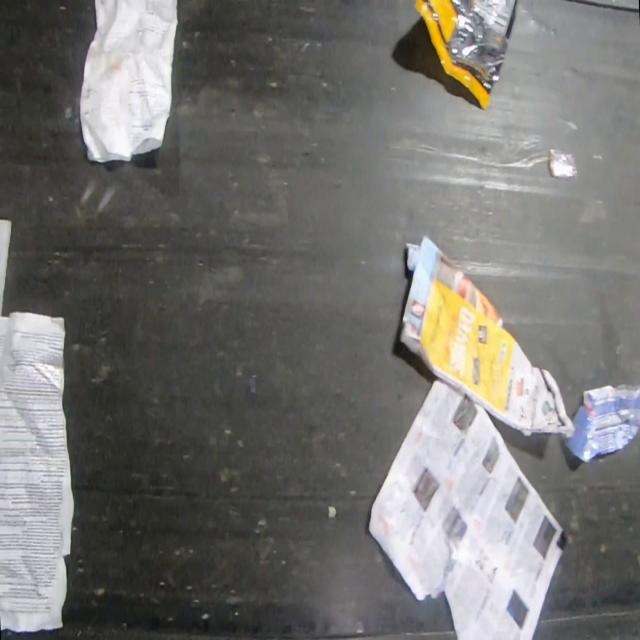cardboard: (398, 228, 575, 439)
soft_plastic: (412, 0, 518, 111), (563, 383, 640, 467)
